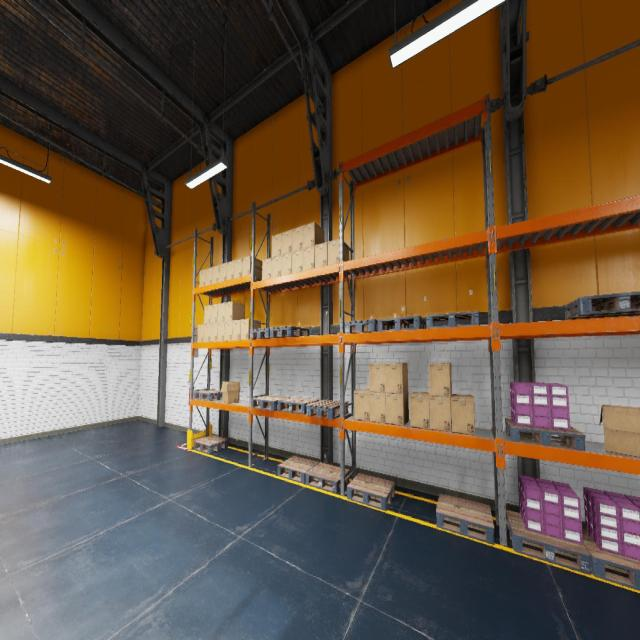box: (599, 404, 640, 457), (451, 394, 475, 435), (429, 395, 452, 432), (428, 363, 452, 397), (386, 392, 408, 426), (410, 392, 430, 429), (385, 362, 408, 393), (327, 238, 349, 265), (303, 222, 324, 248), (369, 392, 386, 423), (354, 389, 369, 421), (369, 363, 385, 392), (242, 256, 262, 278), (221, 381, 240, 403), (240, 319, 260, 339), (224, 301, 244, 321), (315, 242, 327, 268), (292, 226, 303, 251), (292, 249, 303, 273), (303, 246, 314, 270), (281, 230, 292, 254), (281, 252, 292, 276), (271, 255, 281, 277), (272, 233, 281, 257), (262, 258, 271, 280), (232, 320, 240, 340), (224, 321, 232, 341), (234, 258, 242, 278), (226, 260, 234, 280), (210, 304, 218, 323), (218, 302, 225, 322), (219, 262, 226, 282), (217, 322, 224, 341), (203, 323, 210, 342), (197, 324, 204, 343), (204, 305, 211, 324), (210, 323, 217, 341), (212, 265, 219, 283), (205, 267, 212, 285), (199, 269, 205, 287)
pallets: (506, 510, 591, 574), (582, 529, 640, 590), (436, 493, 494, 545), (505, 418, 585, 451), (564, 292, 640, 320), (346, 474, 394, 510), (306, 462, 350, 494), (277, 456, 319, 484), (426, 311, 479, 328), (306, 400, 348, 420), (377, 316, 426, 331), (278, 397, 319, 414), (193, 436, 228, 454), (251, 395, 290, 411), (344, 319, 378, 333), (270, 326, 309, 338), (250, 328, 286, 339), (194, 390, 222, 401)
